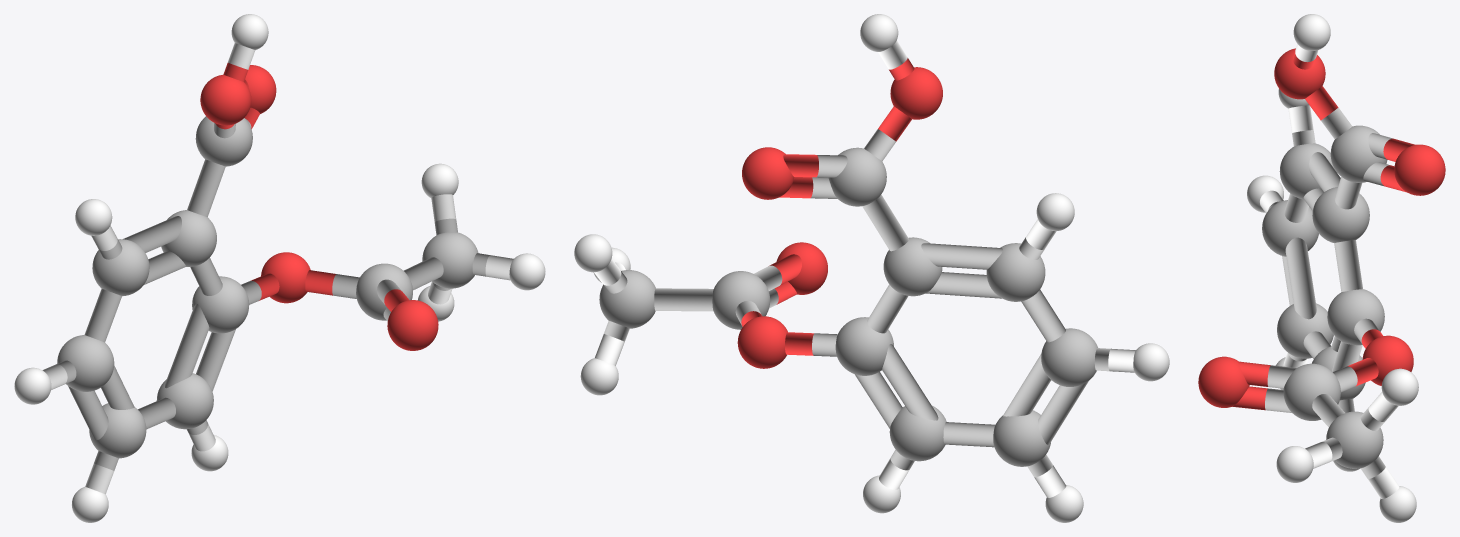
File: aspirine.glb
3 renders of one model, left to right at view 1: azimuth 30°, elevation 25°; view 2: azimuth 150°, elevation 25°; view 3: azimuth 270°, elevation 25°, orthographic. The views are drawn at different scales.
Visible parts, largest first — view 1: Object_4, Object_6, Object_5, Object_7, Object_8; view 2: Object_4, Object_6, Object_5, Object_7, Object_8; view 3: Object_4, Object_6, Object_5, Object_7, Object_8.
Boxes of the visible parts, bbox=[...] form: Object_4: bbox=[56, 116, 478, 470]; Object_6: bbox=[200, 63, 438, 350]; Object_5: bbox=[57, 123, 489, 391]; Object_7: bbox=[14, 14, 545, 522]; Object_8: bbox=[42, 43, 513, 471]; Object_4: bbox=[599, 147, 1110, 477]; Object_6: bbox=[737, 58, 942, 368]; Object_5: bbox=[735, 129, 1097, 428]; Object_7: bbox=[574, 14, 1169, 522]; Object_8: bbox=[594, 40, 1135, 513]; Object_4: bbox=[1268, 125, 1389, 478]; Object_6: bbox=[1198, 48, 1445, 410]; Object_5: bbox=[1262, 107, 1392, 461]; Object_7: bbox=[1247, 14, 1418, 522]; Object_8: bbox=[1260, 44, 1399, 498].
Bounding box in the file's own units: 8.53 × 6.97 × 3.36.
